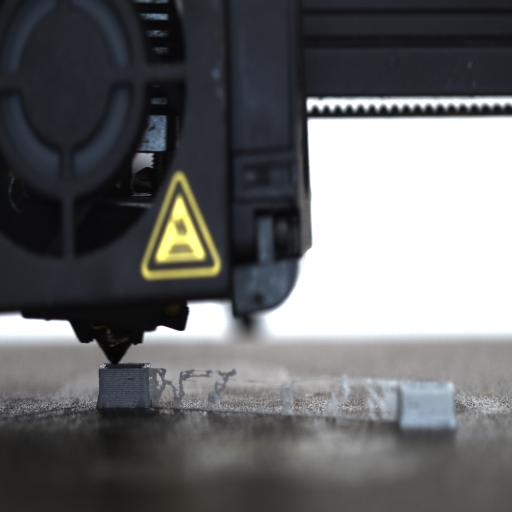stringing: (149, 365, 237, 408), (325, 376, 398, 422)
